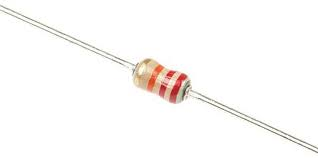resistor: (123, 54, 205, 113)
